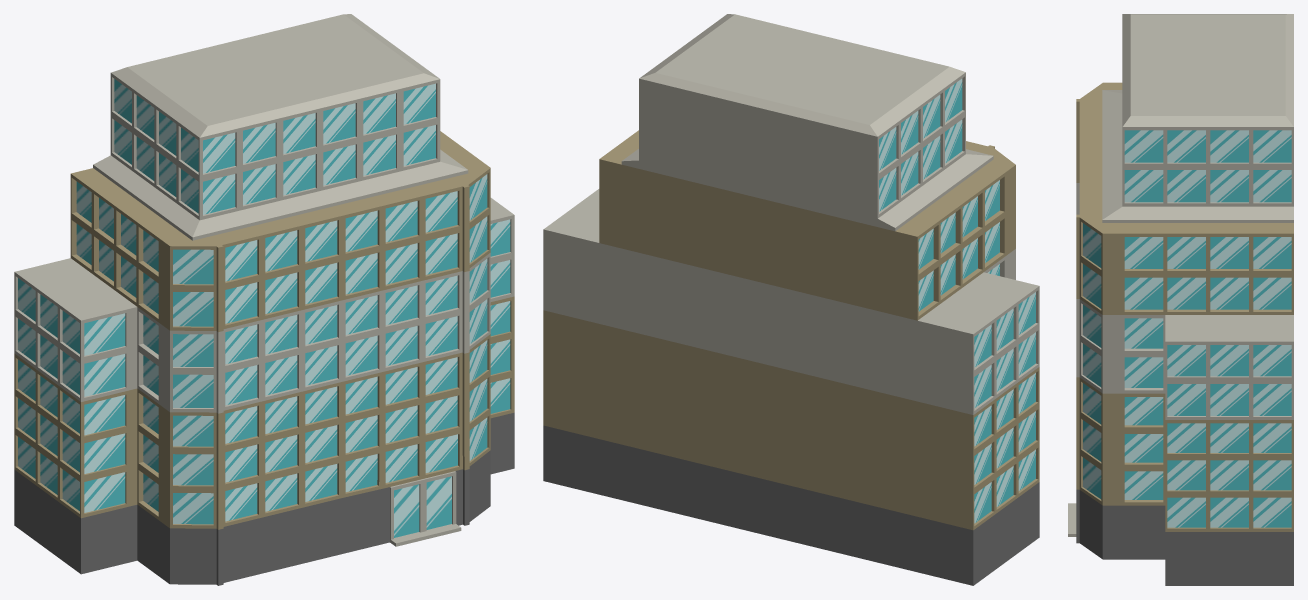
File: Building06WTextures.fbx
The picture shows the model from 3 angles, left to right: view 1: azimuth 30°, elevation 25°; view 2: azimuth 150°, elevation 25°; view 3: azimuth 270°, elevation 25°; orthographic projection. The views are drawn at different scales.
Parts seen in each view (by area): view 1: pCube1; view 2: pCube1; view 3: pCube1.
Boxes of the visible parts, left/top/right/bottom form: pCube1: left=14, top=14, right=514, bottom=585; pCube1: left=543, top=14, right=1039, bottom=585; pCube1: left=1068, top=14, right=1293, bottom=585.
Bounding box in the file's own units: 124 × 119 × 58.27.
1 material, 1 textured.
